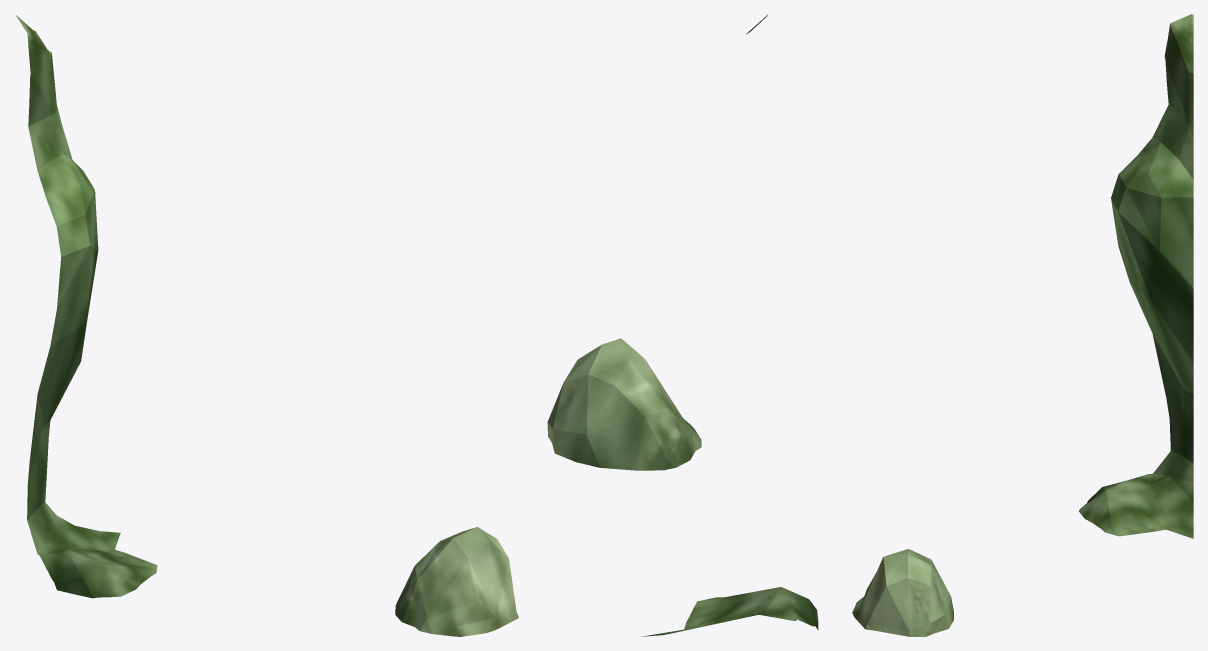
3 views of the same model, side by side, from view 1: azimuth 30°, elevation 25°; view 2: azimuth 150°, elevation 25°; view 3: azimuth 270°, elevation 25° (orthographic). The views are drawn at different scales.
Size of the model in its own units: 1.21 by 1.88 by 1.21.
Materials: 1 (1 with a texture image).
